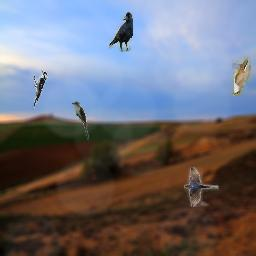Crow: (109, 12, 133, 52)
Cuckoo: (232, 56, 251, 96), (72, 101, 89, 141)
Swallow: (184, 167, 219, 207)
Woodpecker: (33, 70, 48, 110)
